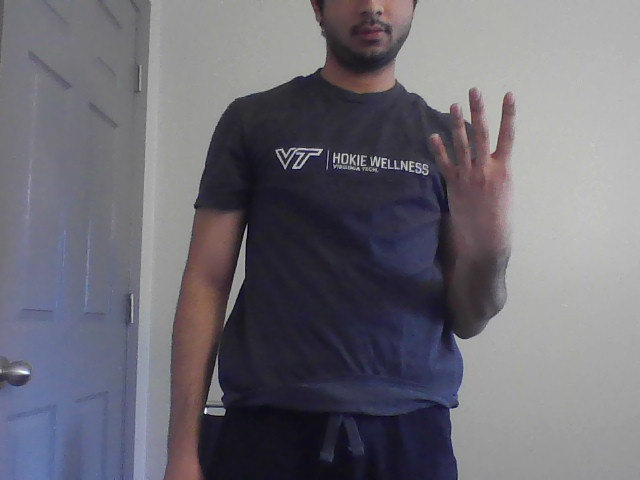four: (425, 85, 523, 209)
